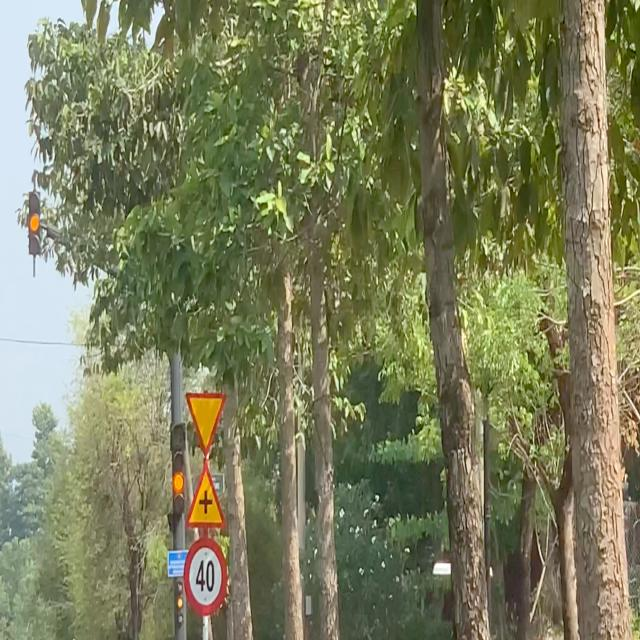Duong giao nhau: (183, 459, 227, 532)
Giao voi duong uu tien: (183, 387, 228, 460)
Toc do toi da: (181, 538, 228, 616)
